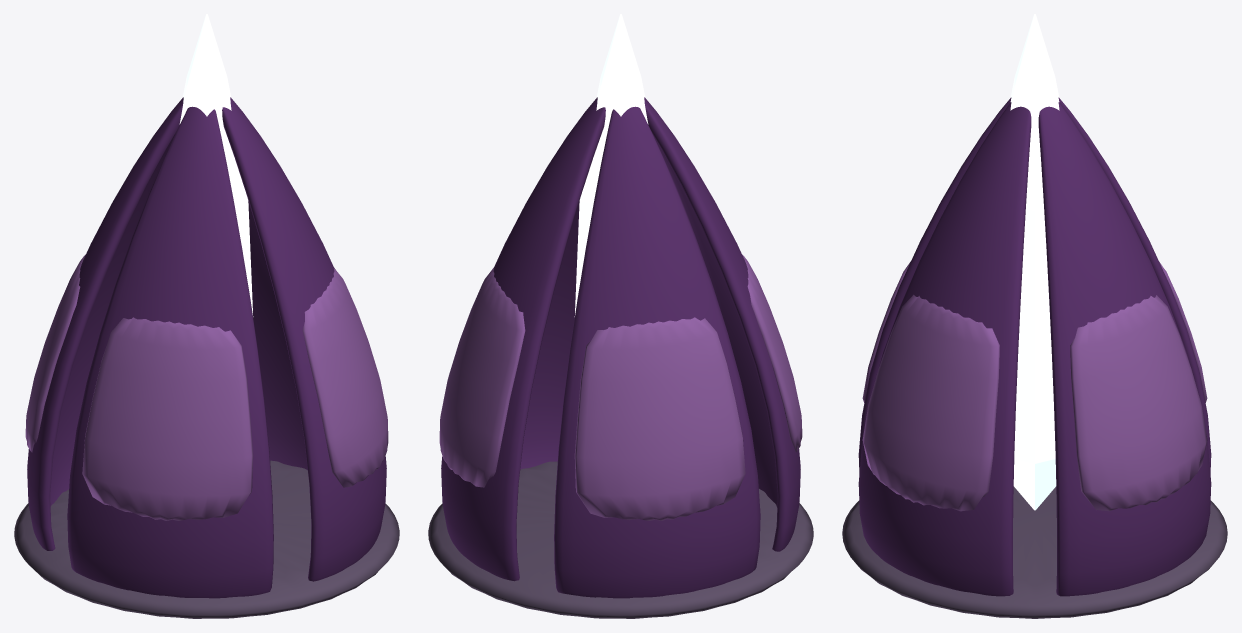
File: SM_SB_Kit_KeelShell_Pylon.fbx
3 renders of one model, left to right at view 1: azimuth 30°, elevation 25°; view 2: azimuth 150°, elevation 25°; view 3: azimuth 270°, elevation 25°, orthographic.
Parts seen in each view (by area): view 1: SM_SB_Kit_KeelShell_Pylon; view 2: SM_SB_Kit_KeelShell_Pylon; view 3: SM_SB_Kit_KeelShell_Pylon.
Boxes of the visible parts, box(x1,y1,x2,y2) form: SM_SB_Kit_KeelShell_Pylon: box(14, 14, 399, 618); SM_SB_Kit_KeelShell_Pylon: box(428, 14, 813, 618); SM_SB_Kit_KeelShell_Pylon: box(842, 14, 1227, 618).
Size of the model in its own units: 197 by 197 by 300.
